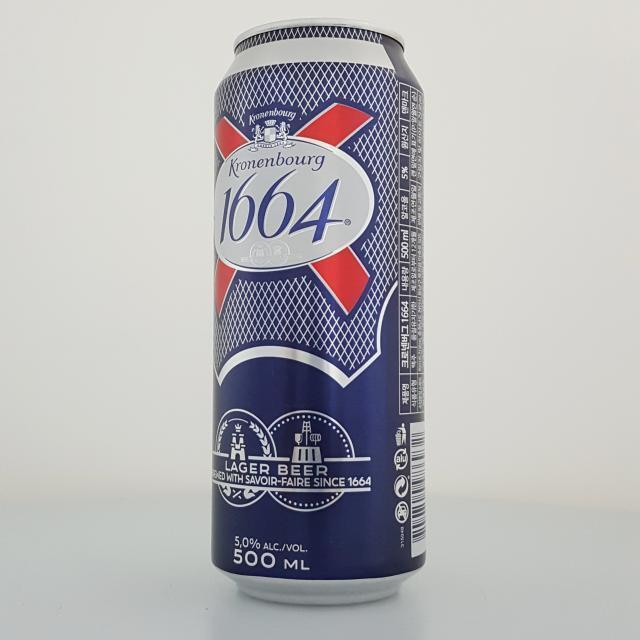can: (207, 16, 432, 609)
